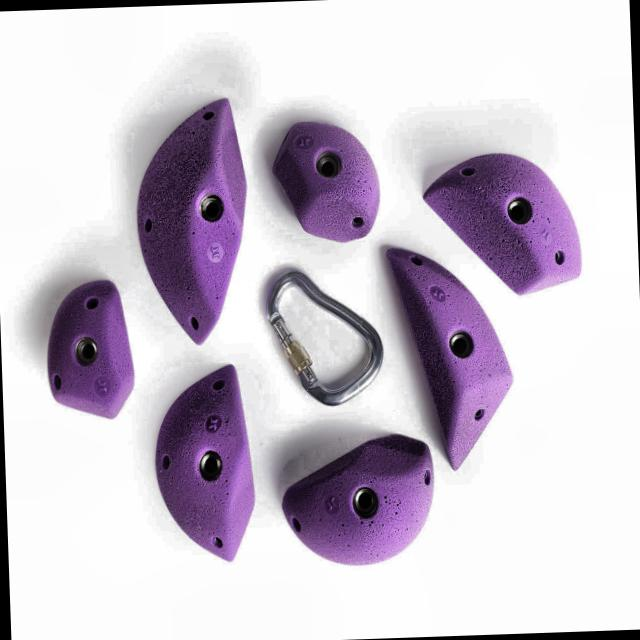Hold: (131, 98, 253, 348), (392, 250, 518, 480), (424, 142, 590, 292), (148, 363, 258, 568), (276, 431, 431, 568), (40, 281, 142, 428), (274, 118, 384, 242)
